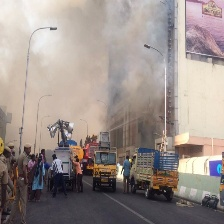smoke: (8, 1, 168, 136)
